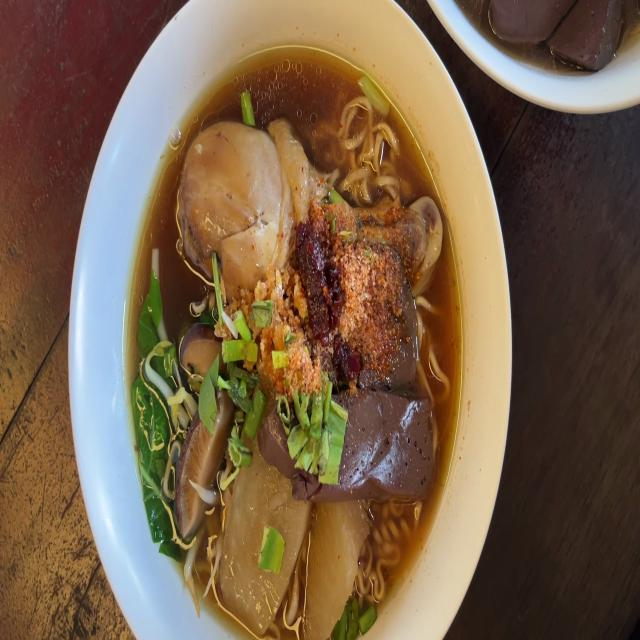noodle: (132, 62, 460, 618)
